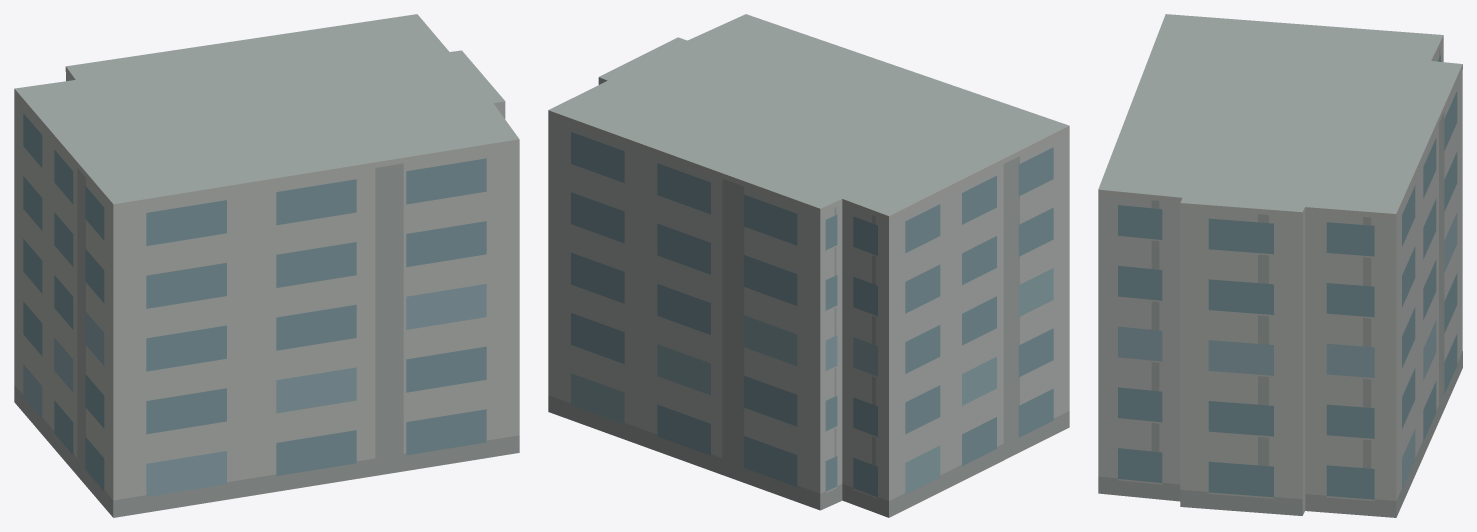
Rendered from survey-upis-32892868.glb.
The picture shows the model from 3 angles, left to right: view 1: azimuth 30°, elevation 25°; view 2: azimuth 150°, elevation 25°; view 3: azimuth 270°, elevation 25°; orthographic projection. The views are drawn at different scales.
Visible parts, largest first — view 1: survey-upis-32892868.tmp; view 2: survey-upis-32892868.tmp; view 3: survey-upis-32892868.tmp.
Boxes of the visible parts, box(x1,y1,x2,y2) form: survey-upis-32892868.tmp: box(14, 14, 519, 517); survey-upis-32892868.tmp: box(548, 14, 1069, 517); survey-upis-32892868.tmp: box(1098, 14, 1462, 517).
Size of the model in its own units: 19.35 by 13.7 by 14.91.
